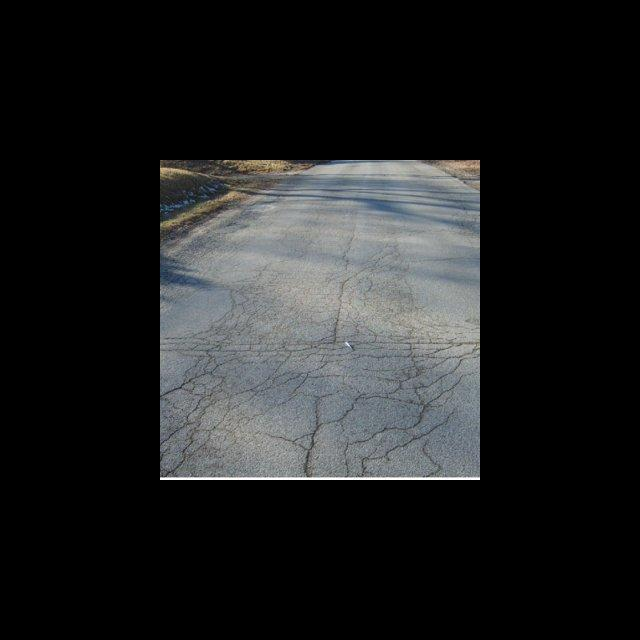retak_kulit_buaya: (160, 315, 299, 464), (332, 332, 480, 469), (214, 251, 302, 356)
